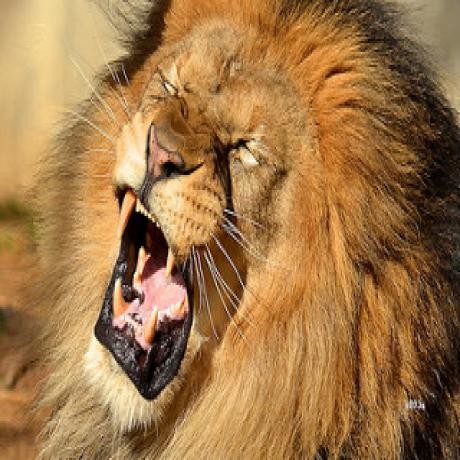Lion: (38, 0, 460, 460)
